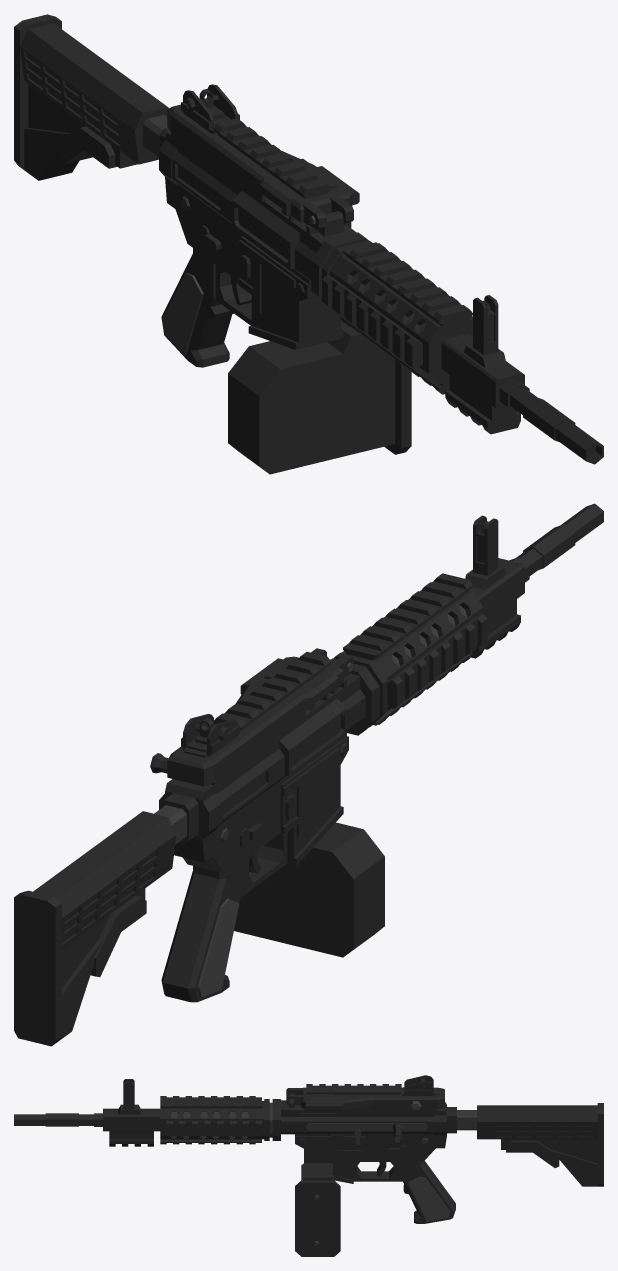
The model's file is LMG_E.fbx.
3 views of the same model, one above another, from view 1: azimuth 30°, elevation 25°; view 2: azimuth 150°, elevation 25°; view 3: azimuth 270°, elevation 25° (orthographic). The views are drawn at different scales.
Parts seen in each view (by area): view 1: LMG_E_Mag, LMG_E_Stock, LMG_E_BarrelGuard, LMG_E_Receiver_Down, LMG_E_Receiver_Part, LMG_E_Barrel, LMG_E_Receiver_Up, LMG_E_Grip; view 2: LMG_E_Stock, LMG_E_Receiver_Down, LMG_E_Mag, LMG_E_BarrelGuard, LMG_E_Receiver_Part, LMG_E_Grip, LMG_E_Receiver_Up, LMG_E_Barrel; view 3: LMG_E_Stock, LMG_E_Receiver_Down, LMG_E_BarrelGuard, LMG_E_Receiver_Part, LMG_E_Receiver_Up, LMG_E_Mag, LMG_E_Barrel, LMG_E_Grip.
Boxes of the visible parts, x1,y1,x2,y2 form: LMG_E_Mag: (228,315,411,474); LMG_E_Stock: (14,14,168,180); LMG_E_BarrelGuard: (311,232,472,394); LMG_E_Receiver_Down: (143,114,343,349); LMG_E_Receiver_Part: (167,84,359,229); LMG_E_Barrel: (441,295,603,464); LMG_E_Receiver_Up: (172,141,356,284); LMG_E_Grip: (161,248,233,367); LMG_E_Stock: (14,811,176,1046); LMG_E_Receiver_Down: (154,736,348,892); LMG_E_Mag: (234,822,384,957); LMG_E_BarrelGuard: (331,573,487,735); LMG_E_Receiver_Part: (167,648,353,786); LMG_E_Grip: (161,858,246,1002); LMG_E_Receiver_Up: (215,659,365,832); LMG_E_Barrel: (465,503,603,658); LMG_E_Stock: (477,1103,603,1186); LMG_E_Receiver_Down: (295,1102,476,1183); LMG_E_BarrelGuard: (160,1096,280,1144); LMG_E_Receiver_Part: (286,1075,444,1110); LMG_E_Receiver_Up: (281,1093,433,1136); LMG_E_Mag: (295,1163,340,1256); LMG_E_Barrel: (14,1079,160,1146); LMG_E_Grip: (398,1160,455,1223).
Bounding box in the file's own units: 0.1788 × 0.34 × 1.16.
